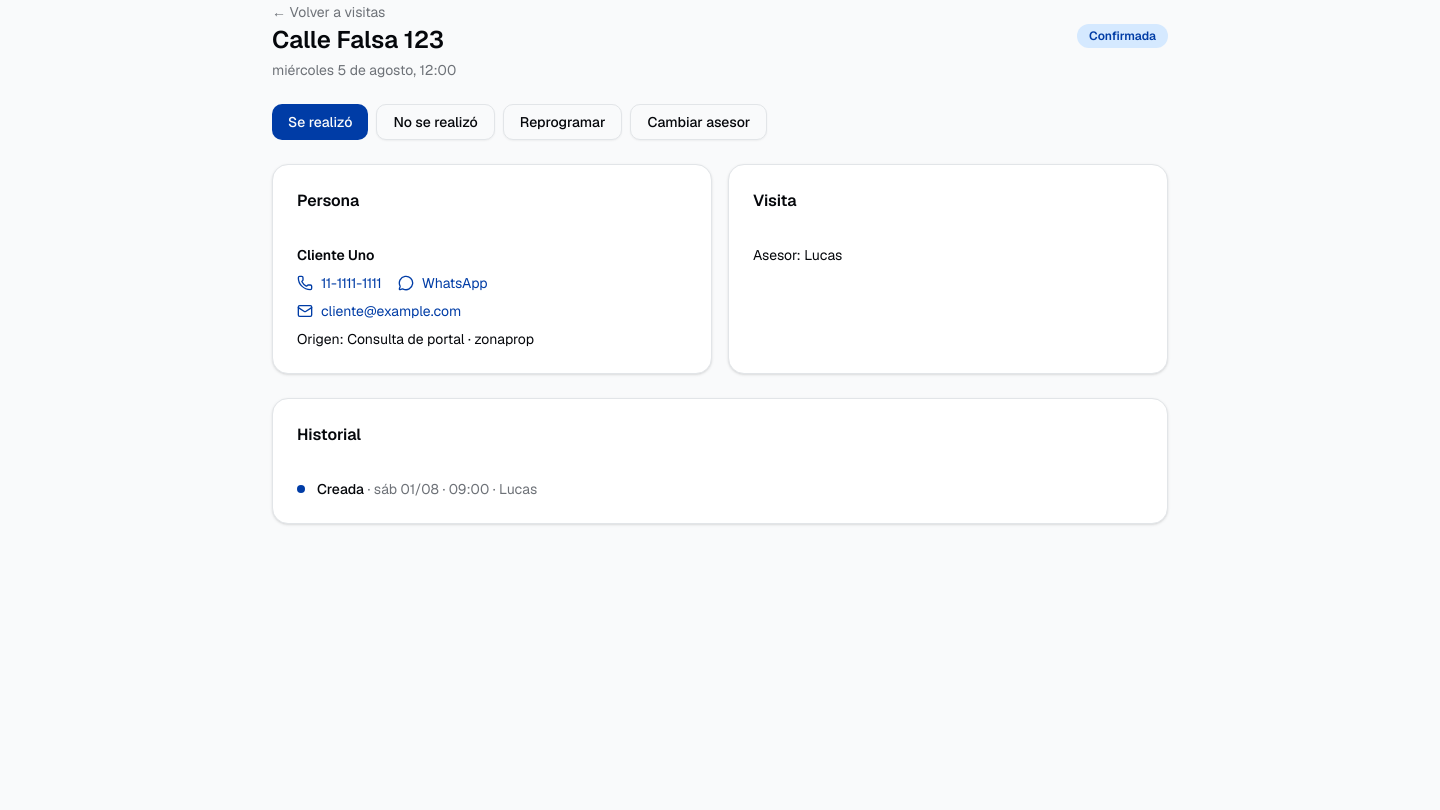
Test: VisitDetailPage — cambiar de asesor › si falla la carga de asesores avisa, y "Reintentar" la trae
Step 1. Click the button "Cambiar asesor" → {"x": 699, "y": 122}, box [630, 104, 767, 140]
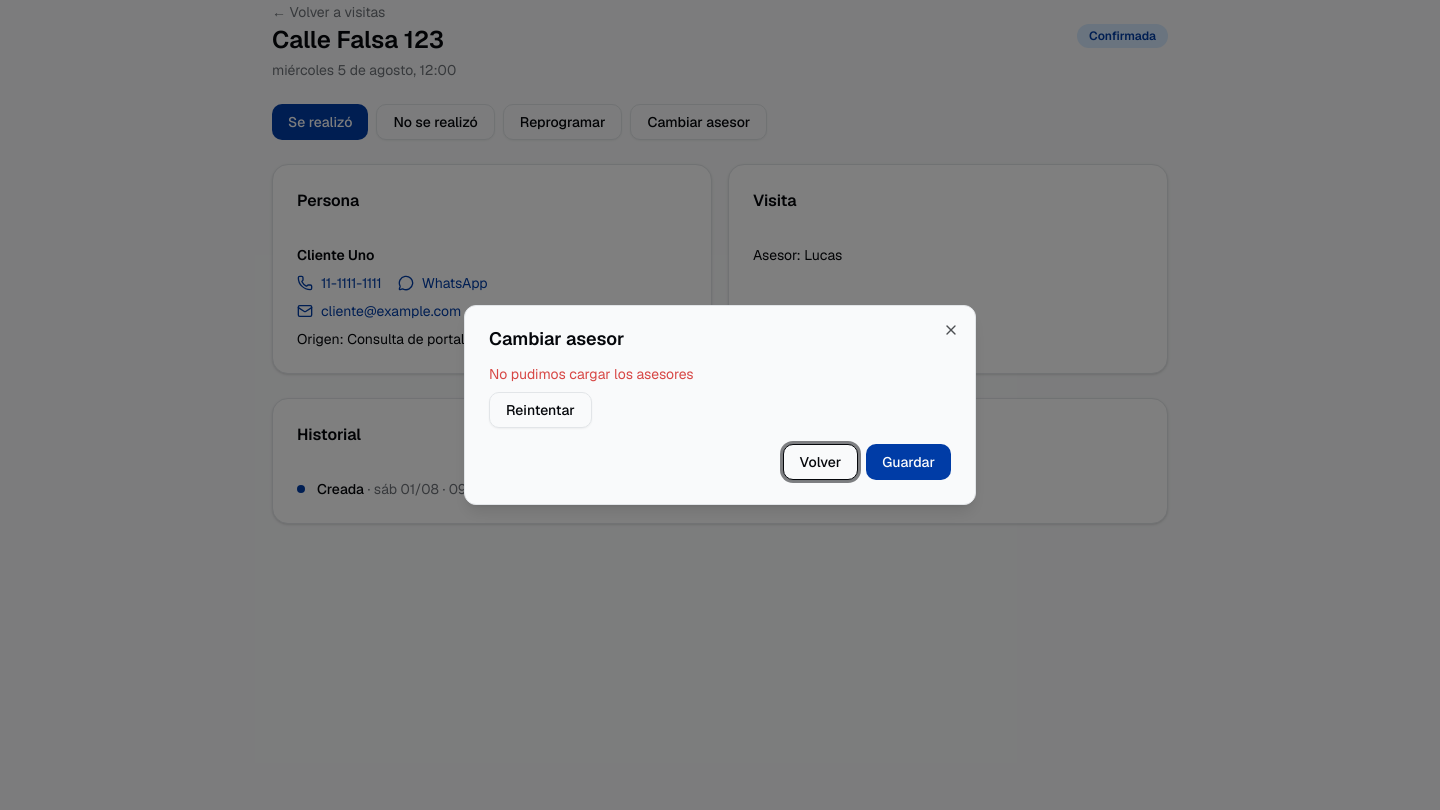
Check: the text "No pudimos cargar los asesores" is shown, box [489, 365, 694, 383]
Step 2. Click the button "Reintentar" → {"x": 540, "y": 410}, box [489, 392, 592, 428]
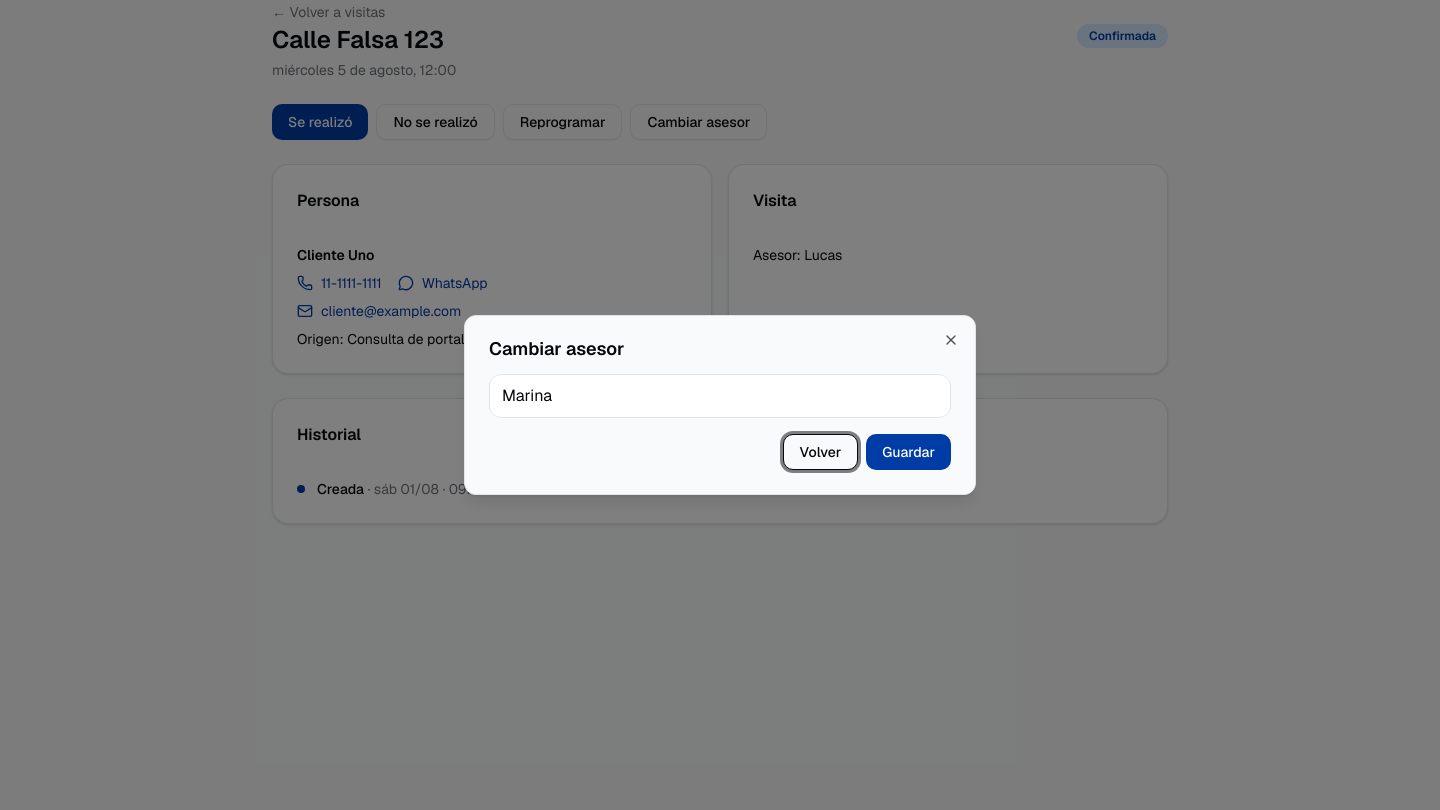
Check: the radio button labelled "Marina" is shown, box [489, 374, 951, 418]
Check: the text "No pudimos cargar los asesores" is gone
